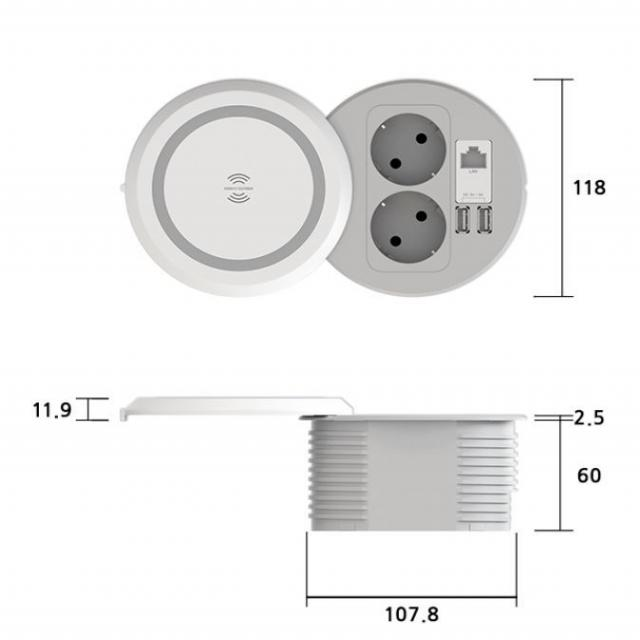typeb: (305, 51, 527, 328)
